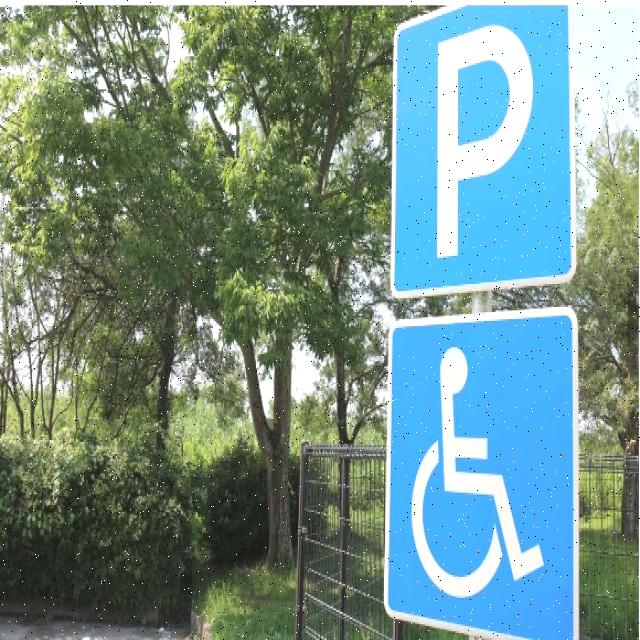symbol_of_access: (381, 305, 580, 640)
